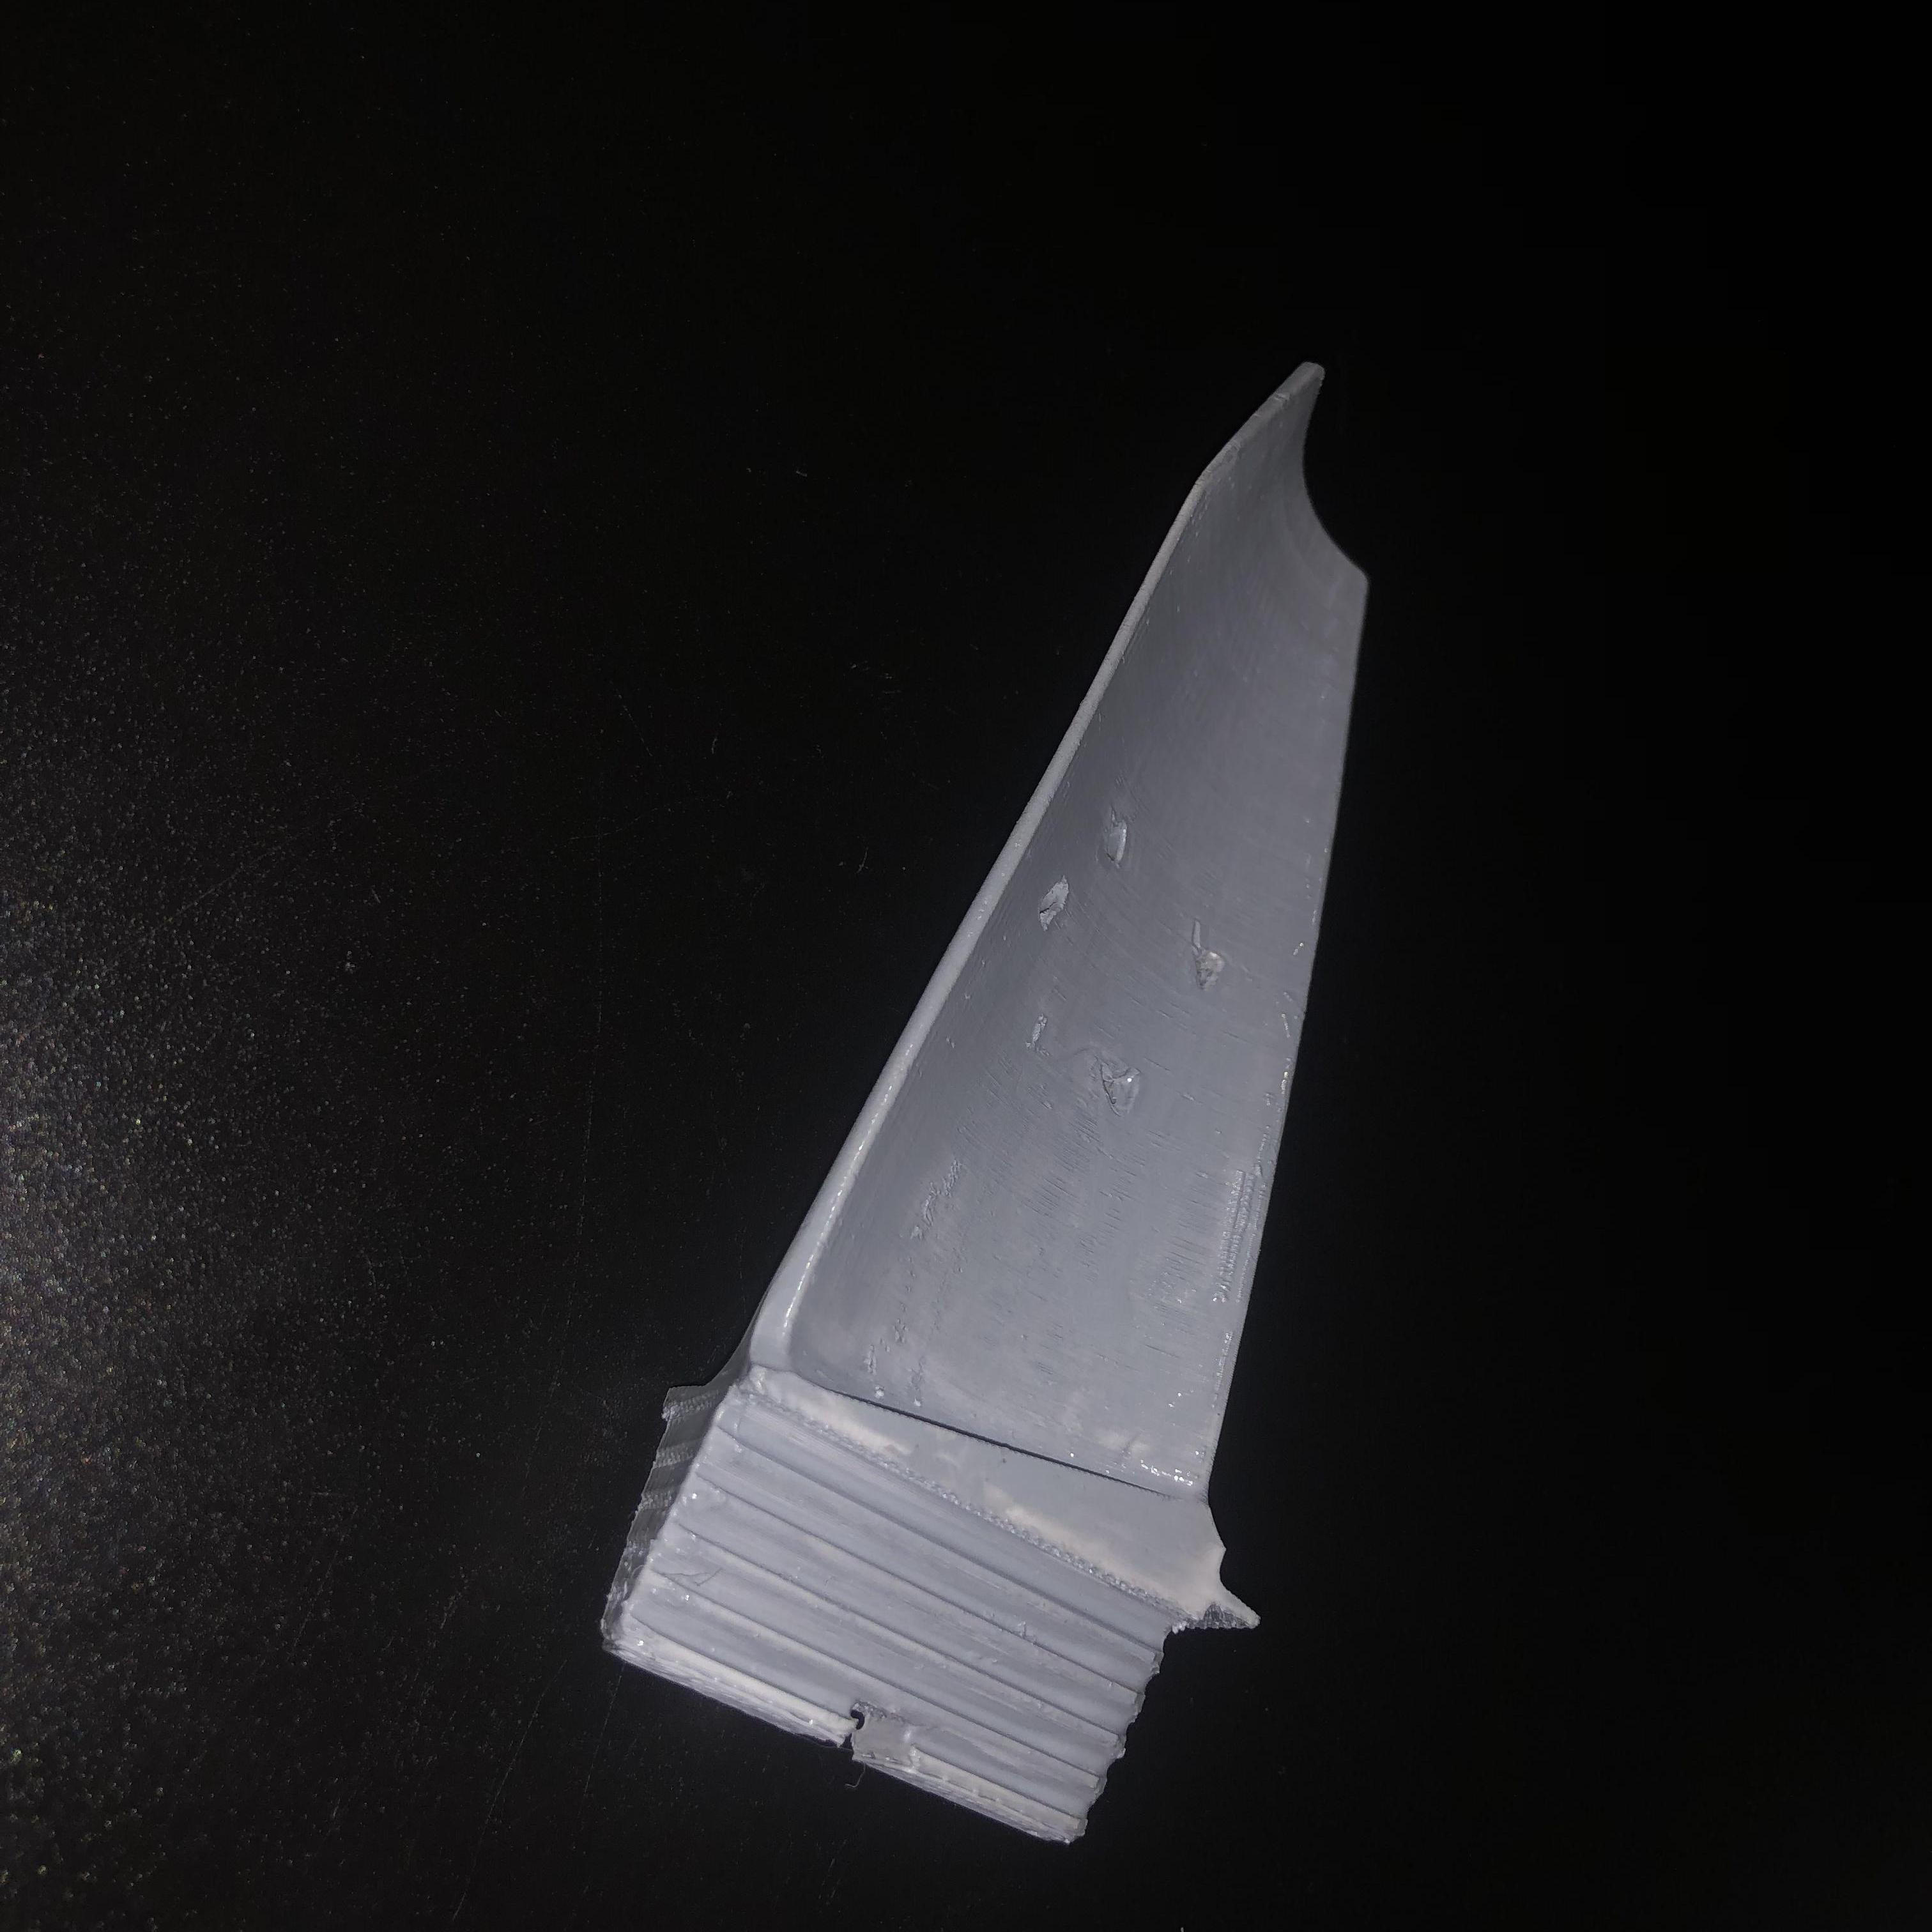breakdown: (1042, 828, 1217, 1108)
